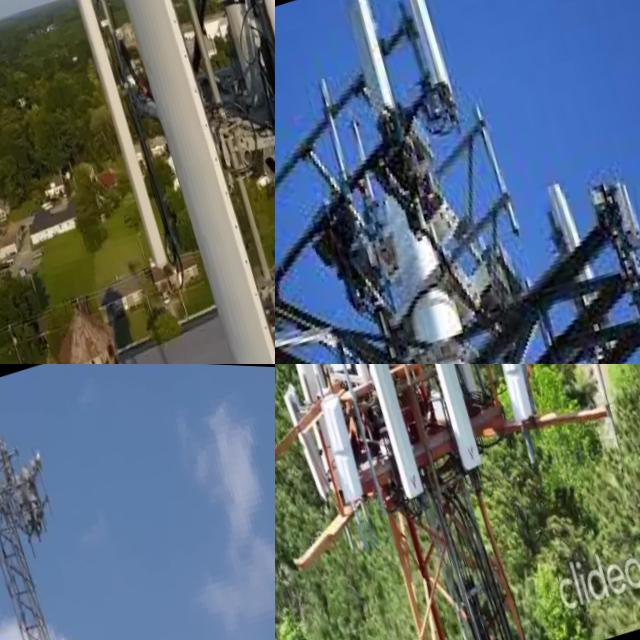GSM Antenna: (36, 0, 275, 364), (37, 0, 213, 279), (189, 0, 275, 348), (526, 155, 640, 364), (335, 364, 451, 508), (400, 364, 510, 479), (332, 0, 419, 137), (313, 384, 388, 516), (383, 0, 471, 110), (275, 375, 348, 502), (473, 364, 558, 431), (594, 136, 640, 252), (275, 364, 351, 398)
Microwave Antenna: (27, 443, 53, 475)
